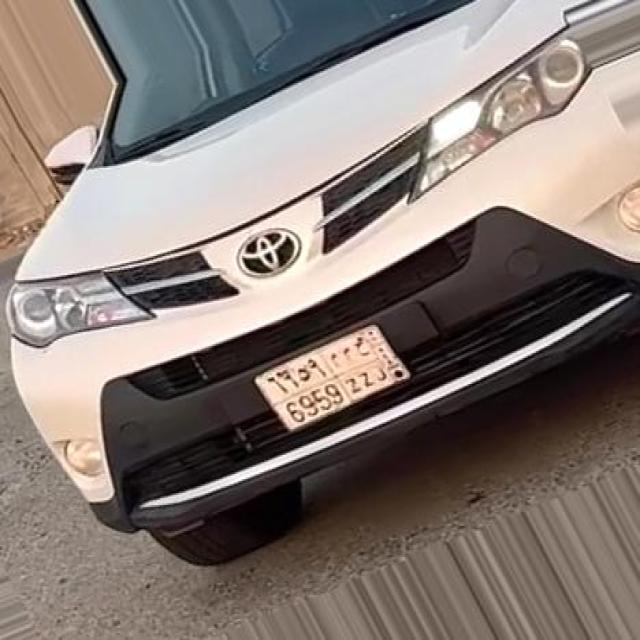Car-plate: (244, 301, 429, 453)
